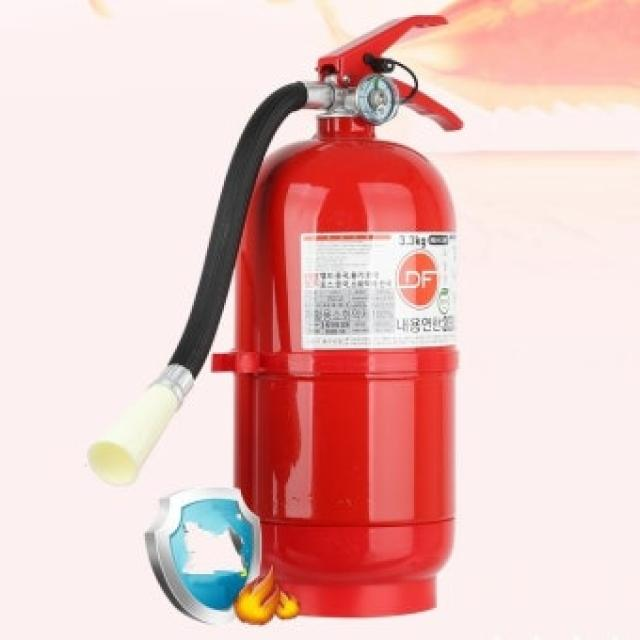pressure gauge: (356, 74, 399, 124)
